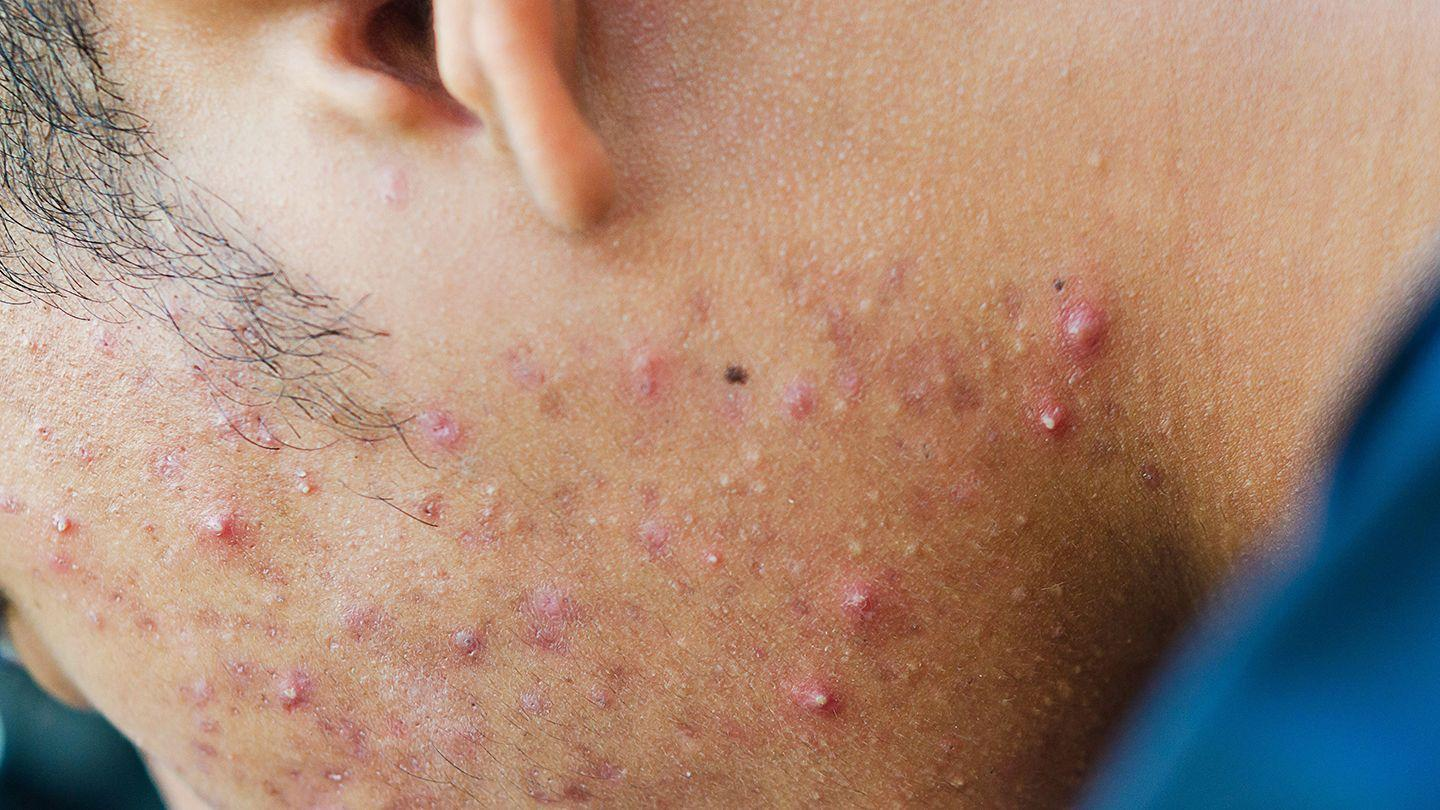acne marks: (31, 376, 1095, 797)
